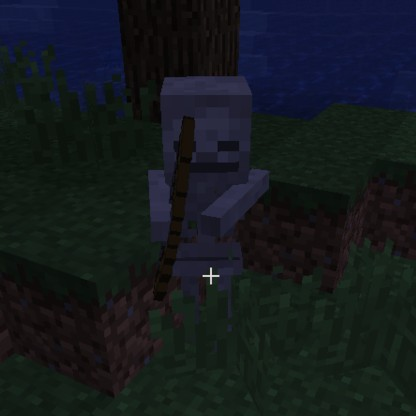skeleton: (143, 72, 276, 232)
